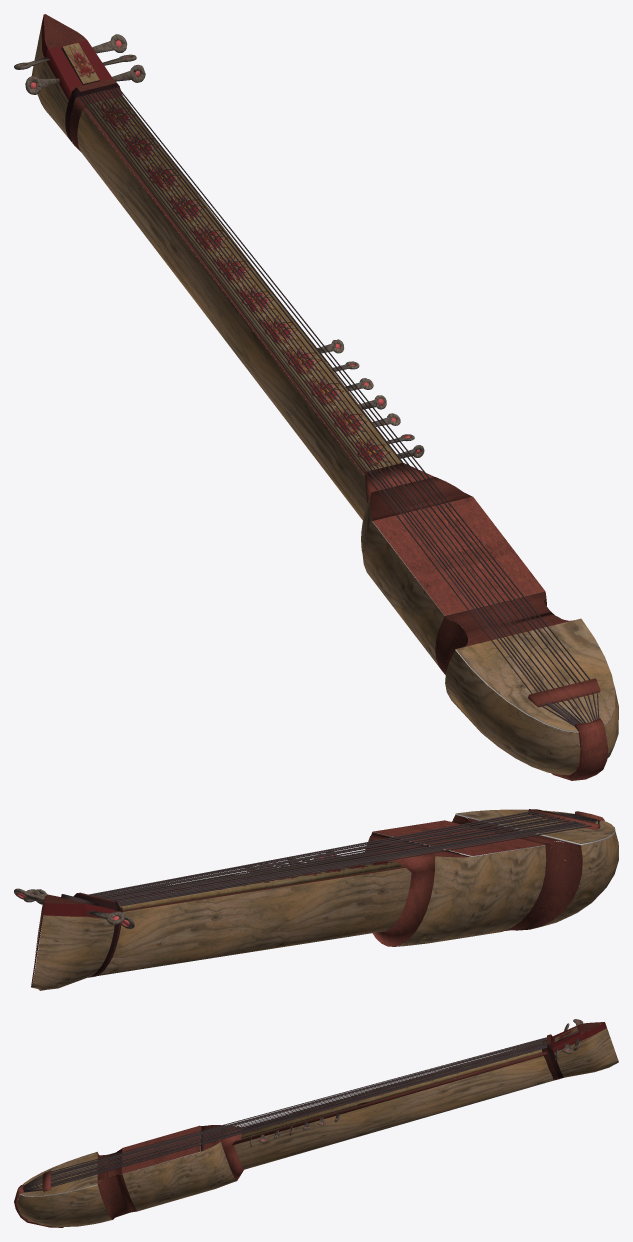
File: esraj.glb
3 renders of one model, top to bottom at view 1: azimuth 30°, elevation 25°; view 2: azimuth 150°, elevation 25°; view 3: azimuth 270°, elevation 25°, orthographic. The views are drawn at different scales.
Visible parts, largest first — view 1: Sphere.006_3; view 2: Sphere.006_3; view 3: Sphere.006_3.
Boxes of the visible parts, x1,y1,x2,y2 form: Sphere.006_3: [14, 14, 618, 780]; Sphere.006_3: [14, 809, 618, 990]; Sphere.006_3: [14, 1019, 618, 1227].
Size of the model in its own units: 0.9948 by 2.66 by 7.16.
Materials: 19 (12 with a texture image).
